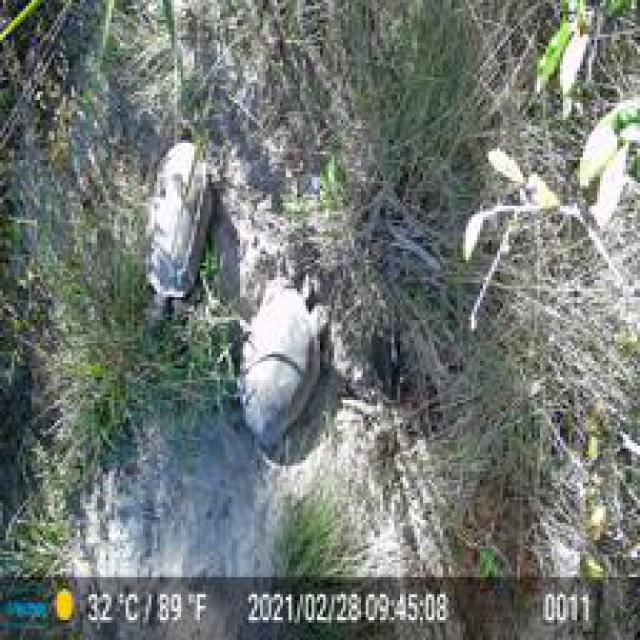tortoise: (231, 277, 326, 452), (137, 137, 217, 323)
